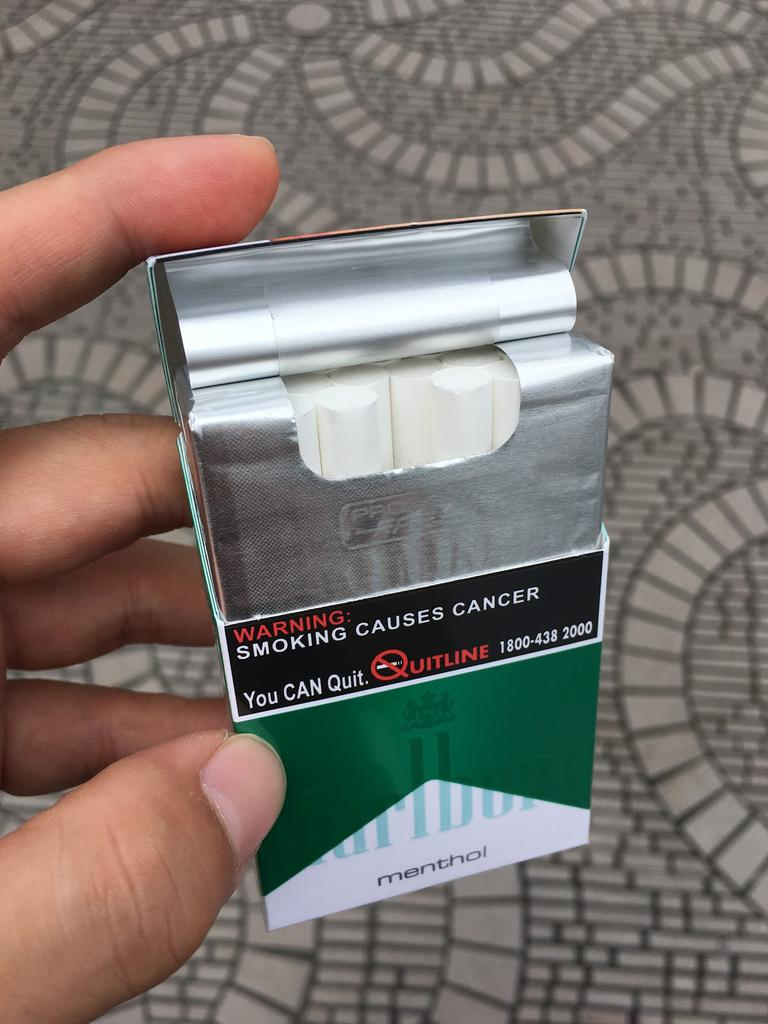marlboro_mentol: (242, 450, 602, 859)
